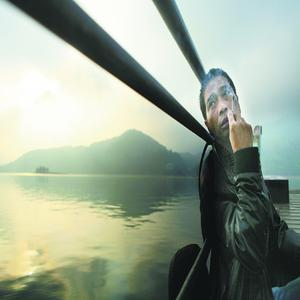cigarette: (231, 94, 235, 119)
